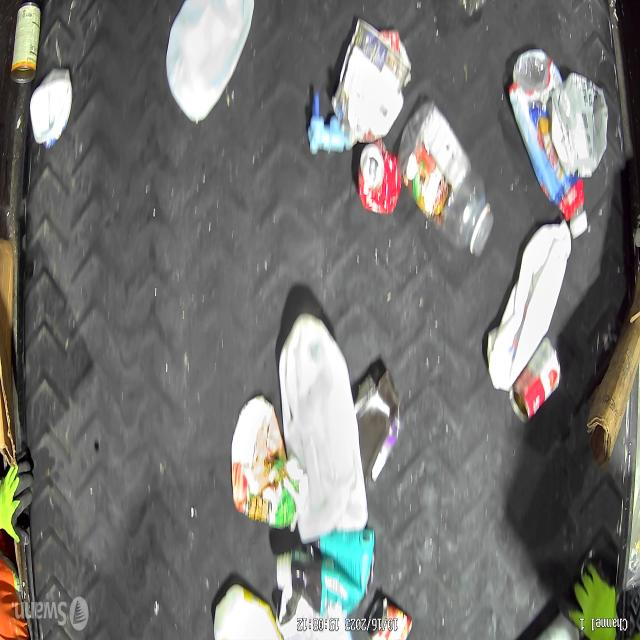can: (508, 334, 562, 426), (356, 136, 404, 214), (9, 0, 44, 86), (366, 593, 414, 640)
milk_jug: (278, 312, 370, 540), (485, 218, 573, 394), (165, 0, 256, 127), (212, 584, 284, 640)
non_white_jug: (276, 530, 376, 620)
